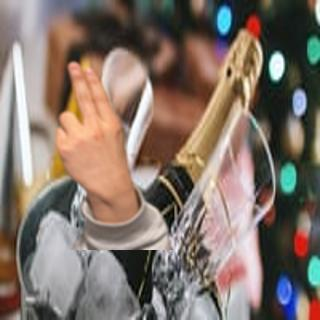DHAVE: (51, 58, 134, 197)
